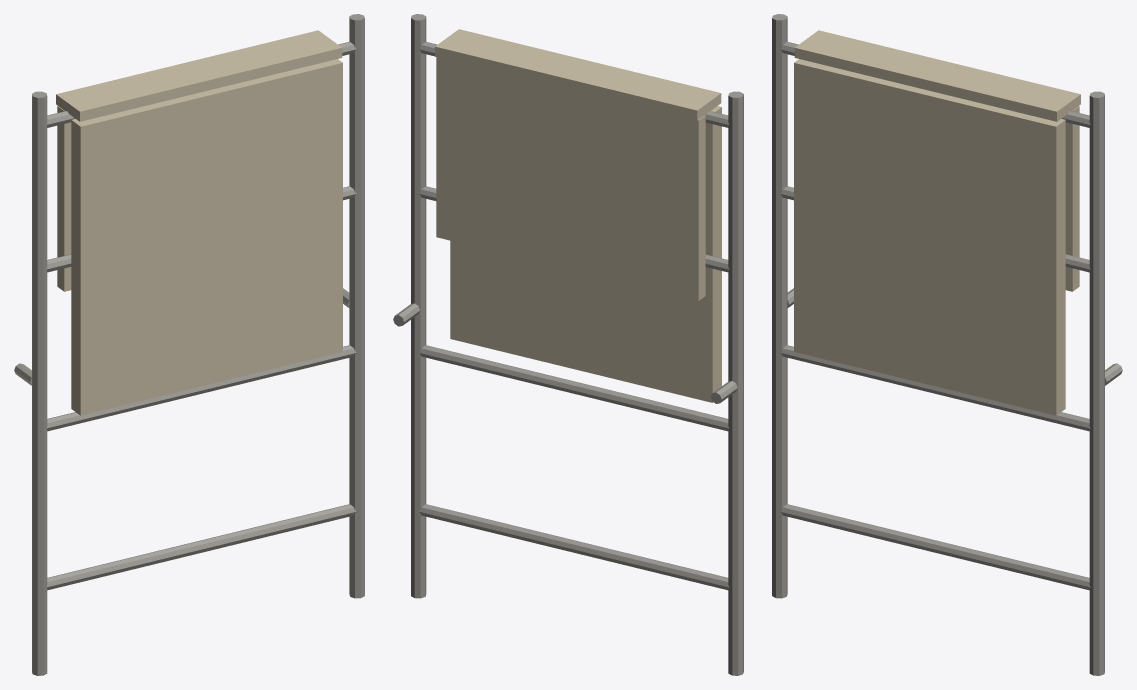
Rendered from towel-rail.glb.
3 views of the same model, side by side, from view 1: azimuth 30°, elevation 25°; view 2: azimuth 150°, elevation 25°; view 3: azimuth 330°, elevation 25° (orthographic).
Parts seen in each view (by area): view 1: paper, brushed; view 2: paper, brushed; view 3: paper, brushed.
Part boxes in pixels (<box>): paper: <box>56,30,342,415</box>; brushed: <box>14,14,364,675</box>; paper: <box>435,29,721,402</box>; brushed: <box>393,14,743,675</box>; paper: <box>794,30,1080,415</box>; brushed: <box>772,14,1122,675</box>.
Size of the model in its own units: 0.48 by 0.8 by 0.084.
